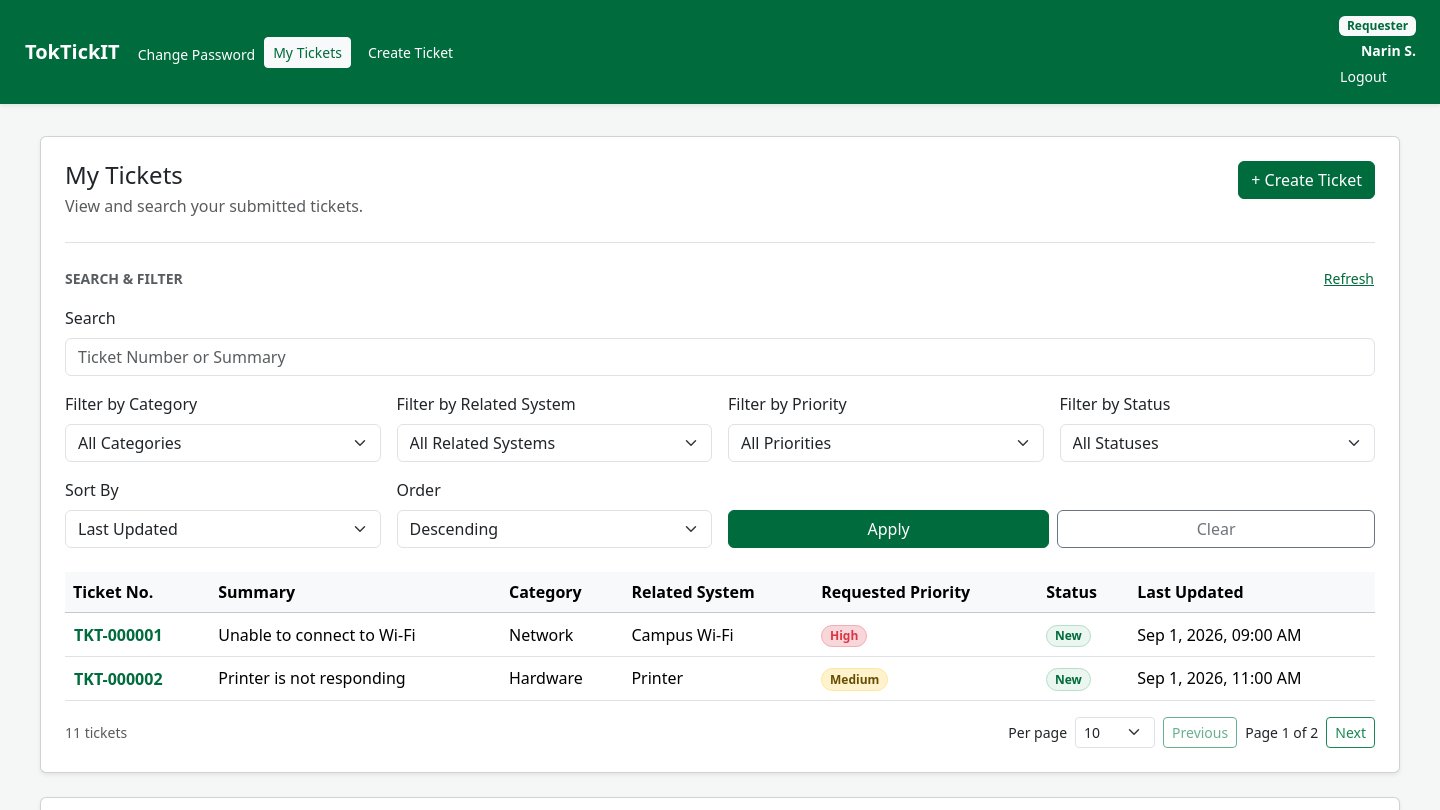
Lab 2 - My Tickets UI › loads the next page when Next is clicked
Expected: the heading "My Tickets" is shown, 65,158 -> 183,191
Click the button "Next": (1351, 732) 1326,717 -> 1375,748
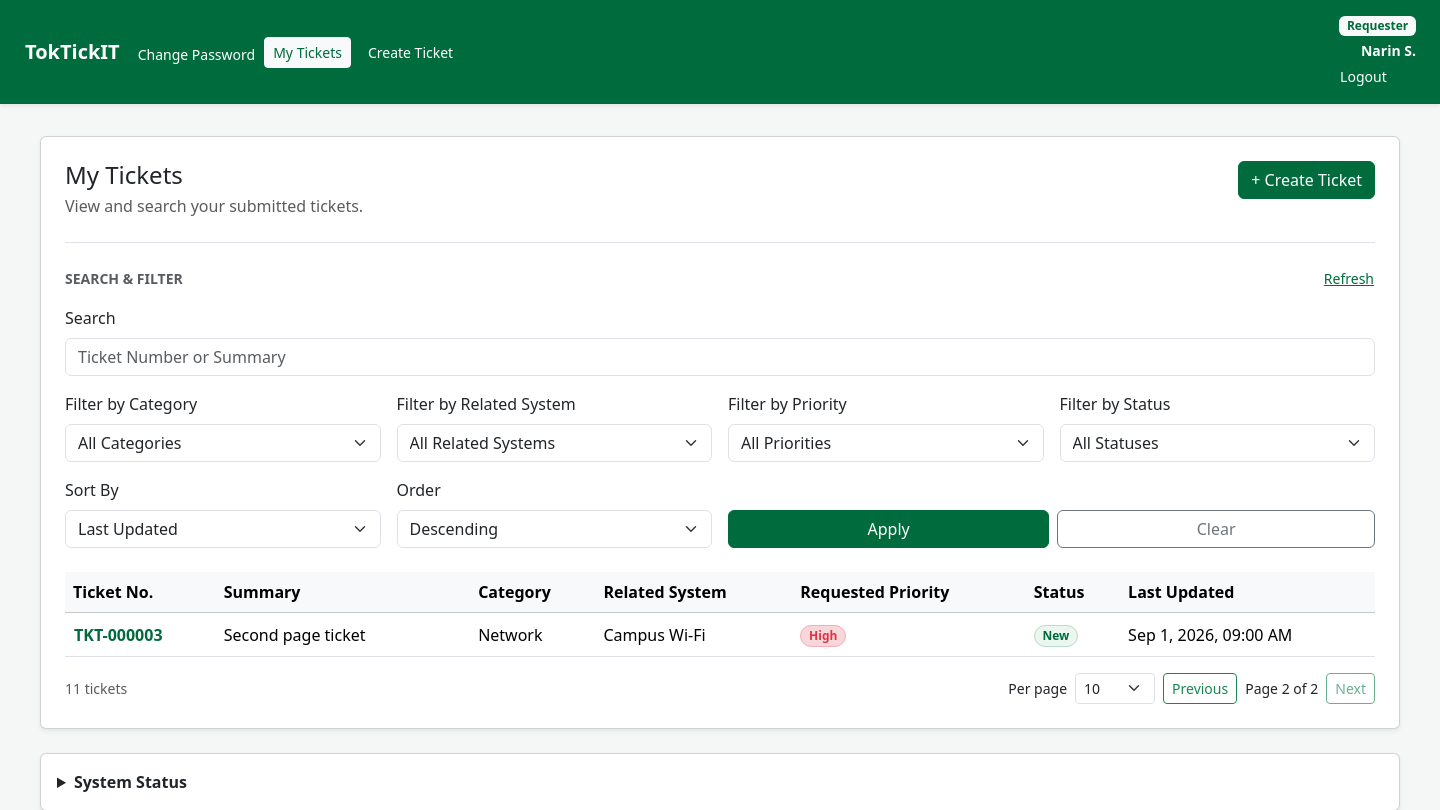
Result: the button "TKT-000003" is shown at 73,622 -> 164,648
Result: the text "Second page ticket" is shown at 216,613 -> 470,656
